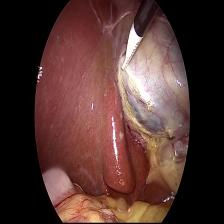Hook: (119, 22, 144, 74)
